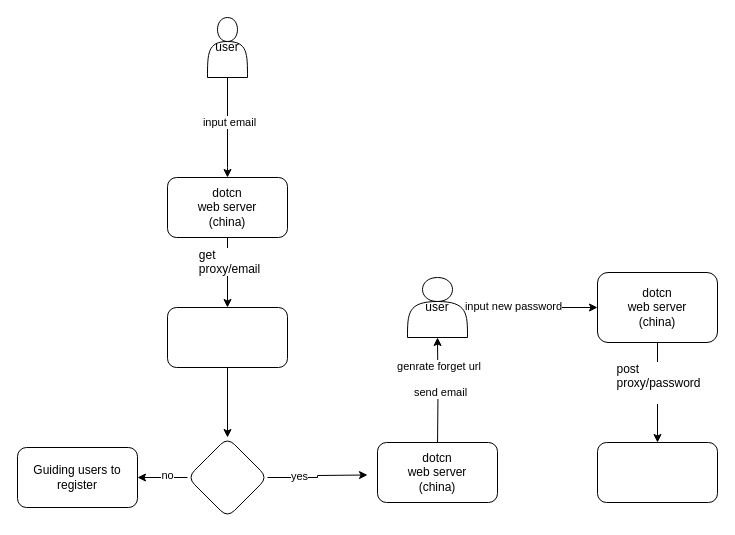
The diagram is 735 pixels wide and 535 high, and some of its shapes have lost their labels. The shapes that lost their labels are listed below. From the top down, each one's box as (x1, y1, x2, y2) in pixels, then its label:
(166, 306, 288, 368): aws
(186, 436, 268, 518): user info
(596, 442, 718, 502): aws cloud
